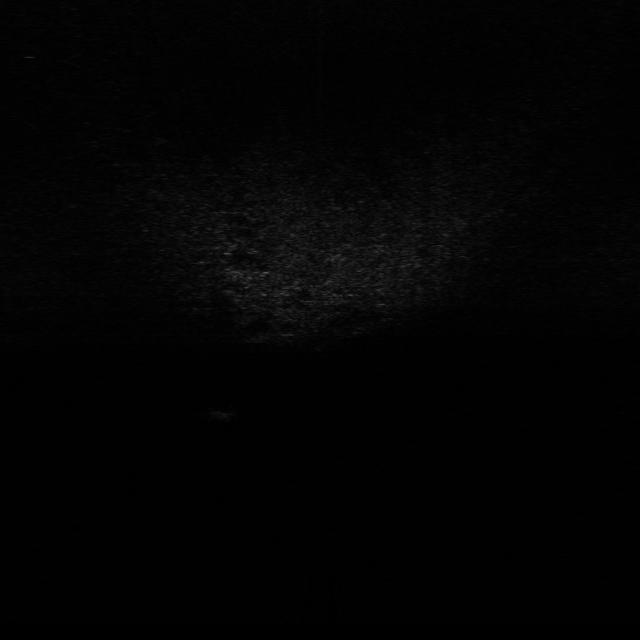cube: (207, 401, 238, 424)
